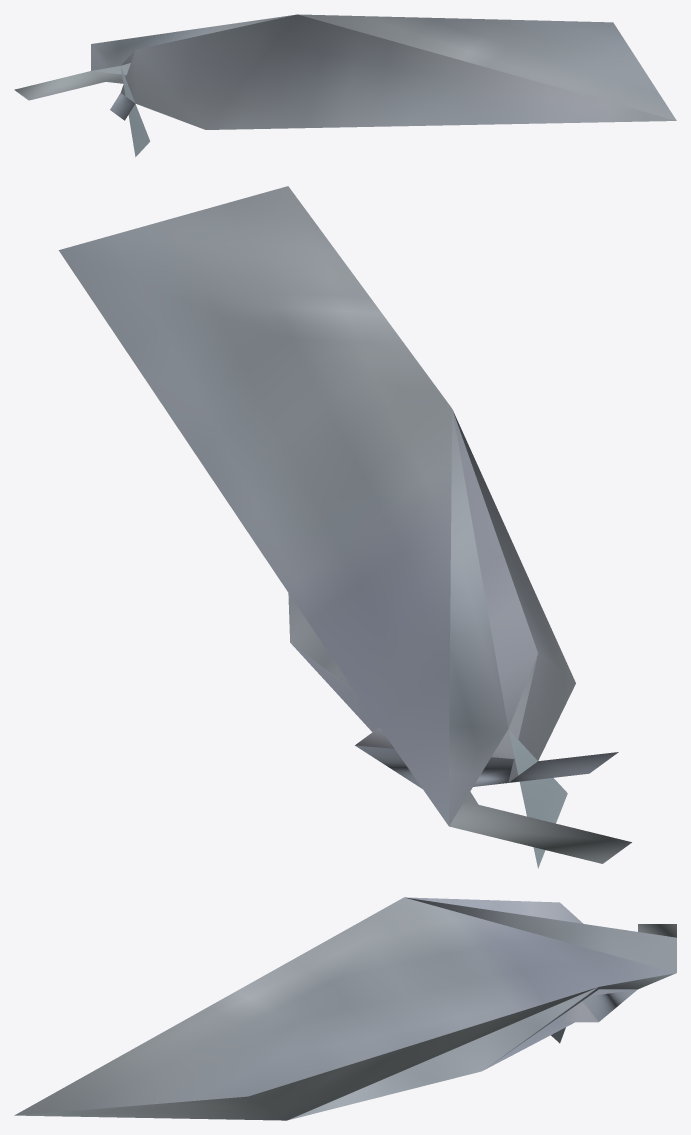
The picture shows the model from 3 angles, top to bottom: view 1: azimuth 30°, elevation 25°; view 2: azimuth 150°, elevation 25°; view 3: azimuth 270°, elevation 25°; orthographic projection. The views are drawn at different scales.
Parts seen in each view (by area): view 1: 30436272704361737506_0; view 2: 30436272704361737506_0; view 3: 30436272704361737506_0.
Boxes of the visible parts, <box> form: 30436272704361737506_0: <box>14,14,676,157</box>; 30436272704361737506_0: <box>58,186,631,868</box>; 30436272704361737506_0: <box>14,897,676,1120</box>.
Bounding box in the file's own units: 2.61 × 0.9244 × 2.62.
Materials: 1 (1 with a texture image).
